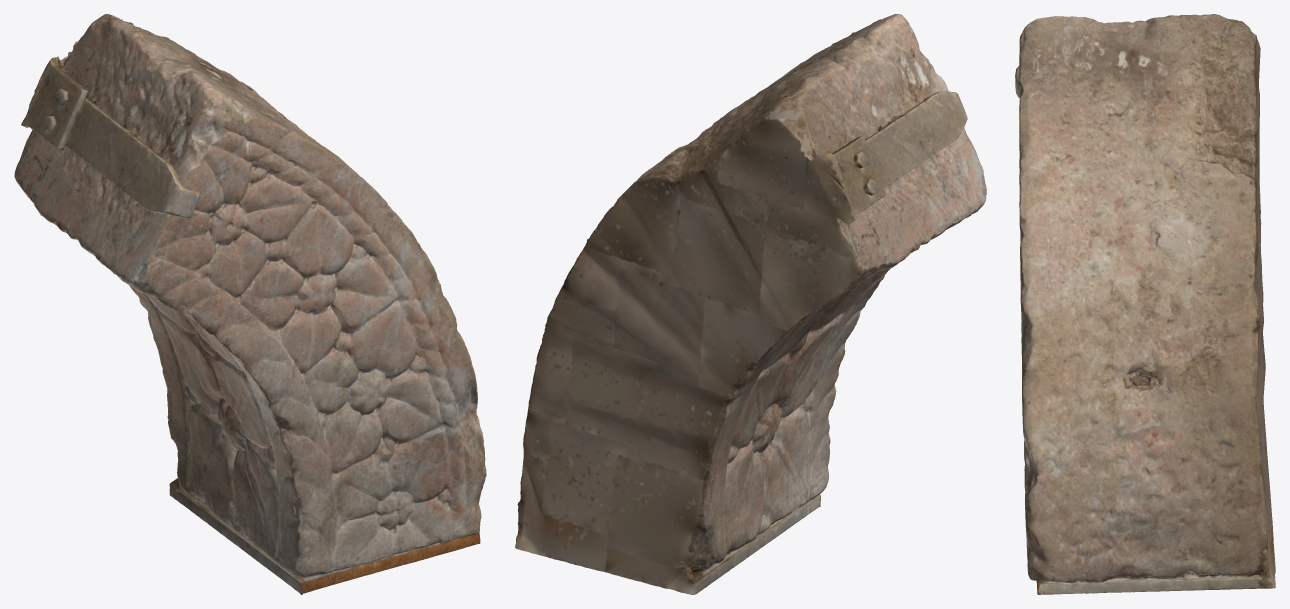
The model's file is voussoir_472190.glb.
The picture shows the model from 3 angles, left to right: view 1: azimuth 30°, elevation 25°; view 2: azimuth 150°, elevation 25°; view 3: azimuth 270°, elevation 25°; orthographic projection. The views are drawn at different scales.
Visible parts, largest first — view 1: default_n3d; view 2: default_n3d; view 3: default_n3d.
Part boxes in pixels (bbox=[...]): default_n3d: bbox=[14, 14, 486, 594]; default_n3d: bbox=[515, 14, 986, 594]; default_n3d: bbox=[1015, 14, 1275, 594].
Size of the model in its own units: 0.3007 by 0.4213 by 0.2119.
1 material, 1 textured.
